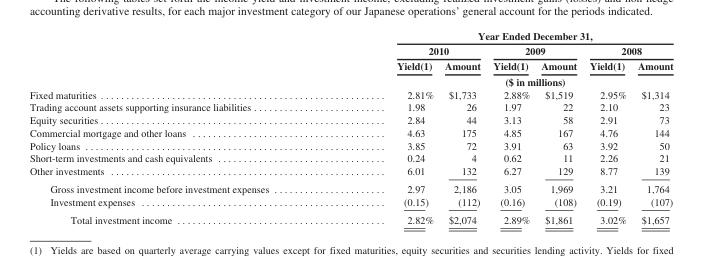table: (28, 29, 672, 224)
table column: (28, 29, 332, 224), (332, 29, 438, 224), (582, 29, 631, 224), (438, 29, 486, 224), (486, 29, 534, 224), (534, 29, 582, 224), (631, 29, 672, 224)
table column header: (28, 29, 672, 87)
table row: (28, 42, 672, 58), (28, 194, 672, 210), (28, 58, 672, 73), (28, 164, 672, 179), (28, 179, 672, 194), (28, 73, 672, 87), (28, 210, 672, 224), (28, 29, 672, 42), (28, 87, 672, 100), (28, 100, 672, 113), (28, 125, 672, 138), (28, 138, 672, 151), (28, 151, 672, 164), (28, 113, 672, 125)
table spanning cell: (332, 73, 672, 87), (332, 29, 672, 42), (332, 42, 486, 58), (486, 42, 582, 58), (582, 42, 672, 58)
